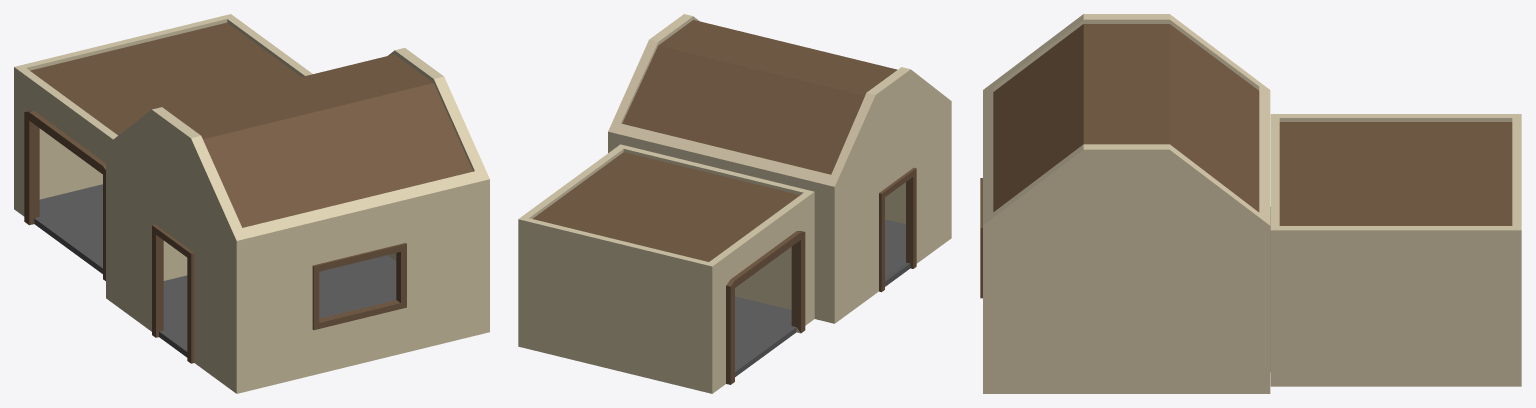
Rendered from SmallHouse1-3.fbx.
3 views of the same model, side by side, from view 1: azimuth 30°, elevation 25°; view 2: azimuth 150°, elevation 25°; view 3: azimuth 270°, elevation 25° (orthographic). The views are drawn at different scales.
Parts seen in each view (by area): view 1: SmallHouse.002_LOD0; view 2: SmallHouse.002_LOD0; view 3: SmallHouse.002_LOD0.
Part boxes in pixels (x1,y1,x2,y2): SmallHouse.002_LOD0: (14, 14, 489, 393); SmallHouse.002_LOD0: (518, 14, 951, 393); SmallHouse.002_LOD0: (980, 14, 1521, 393).
Size of what is drawn, in the model's own units: 1158 by 960 by 1927.
Materials: 1 (1 with a texture image).
